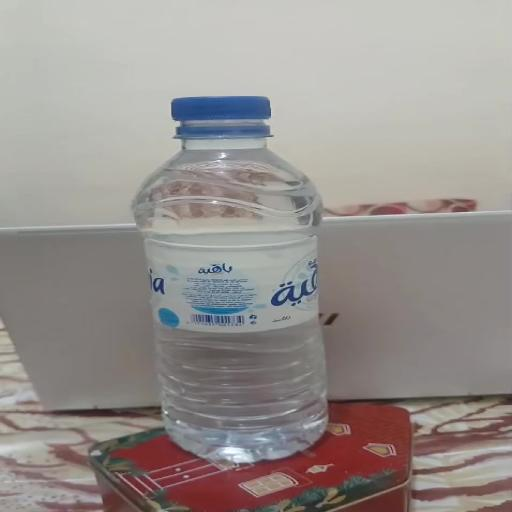bouteille non conformite: (132, 72, 340, 463), (156, 82, 296, 156)
